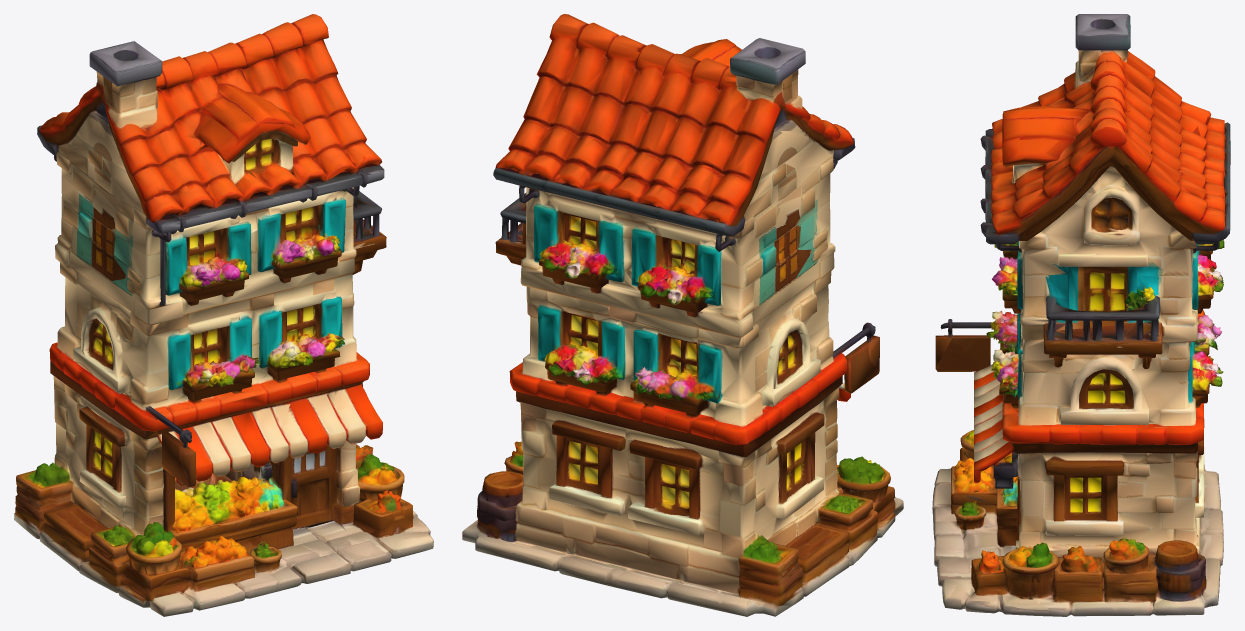
The model's file is immeuble1.glb.
3 renders of one model, left to right at view 1: azimuth 30°, elevation 25°; view 2: azimuth 150°, elevation 25°; view 3: azimuth 270°, elevation 25°, orthographic. The views are drawn at different scales.
Parts seen in each view (by area): view 1: Mesh_0; view 2: Mesh_0; view 3: Mesh_0.
Boxes of the visible parts, x1,y1,x2,y2 form: Mesh_0: (14, 14, 433, 616); Mesh_0: (462, 14, 903, 616); Mesh_0: (932, 14, 1230, 616).
Bounding box in the file's own units: 1.26 × 1.9 × 1.08.
1 material, 1 textured.
